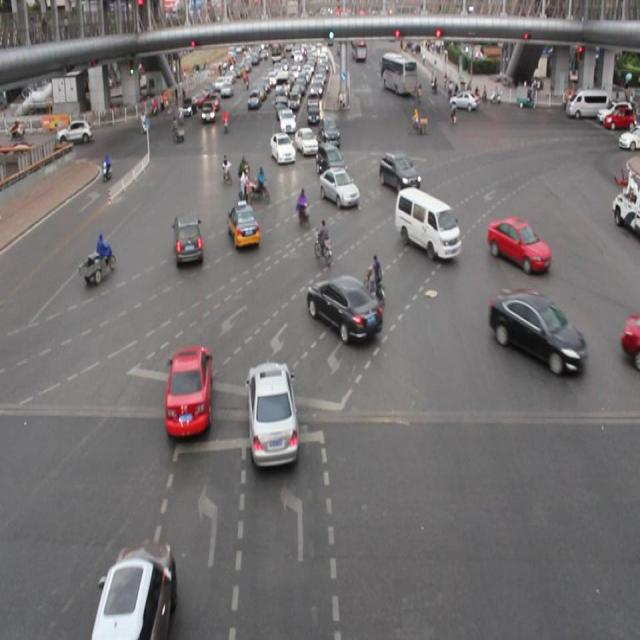car: (93, 539, 175, 640), (489, 287, 584, 374), (245, 361, 299, 467), (308, 273, 378, 344), (164, 344, 213, 443), (486, 217, 548, 272), (171, 209, 206, 270), (378, 150, 422, 195), (227, 199, 261, 256), (319, 166, 360, 210), (316, 141, 346, 178), (268, 131, 297, 165), (294, 124, 319, 159)
truck: (393, 187, 460, 257)
